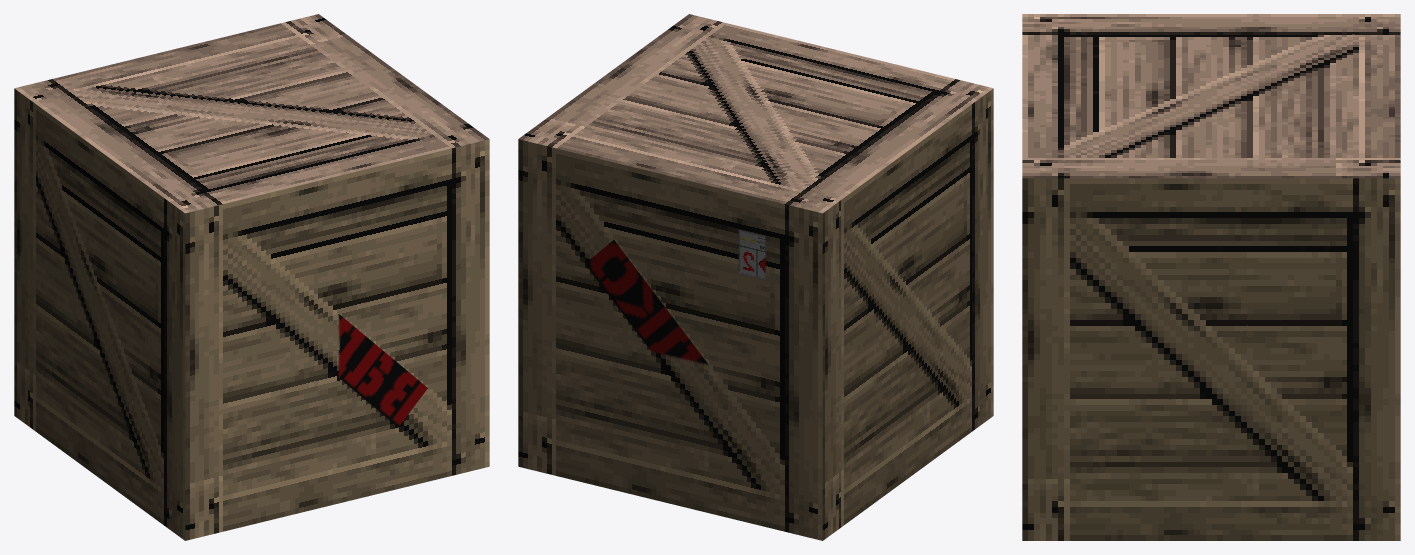
Rendered from primary_106.glb.
3 views of the same model, side by side, from view 1: azimuth 30°, elevation 25°; view 2: azimuth 150°, elevation 25°; view 3: azimuth 270°, elevation 25° (orthographic). The views are drawn at different scales.
Visible parts, largest first — view 1: Object; view 2: Object; view 3: Object.
Part boxes in pixels (bbox=[...]): Object: bbox=[14, 14, 489, 540]; Object: bbox=[518, 14, 993, 540]; Object: bbox=[1022, 14, 1400, 540].
Bounding box in the file's own units: 0.9097 × 0.935 × 0.8845.
Materials: 7 (7 with a texture image).
